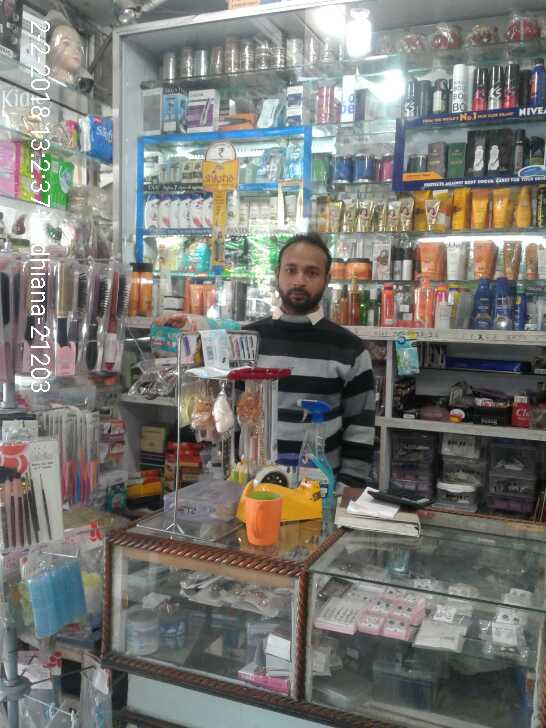venus: (259, 97, 280, 127)
